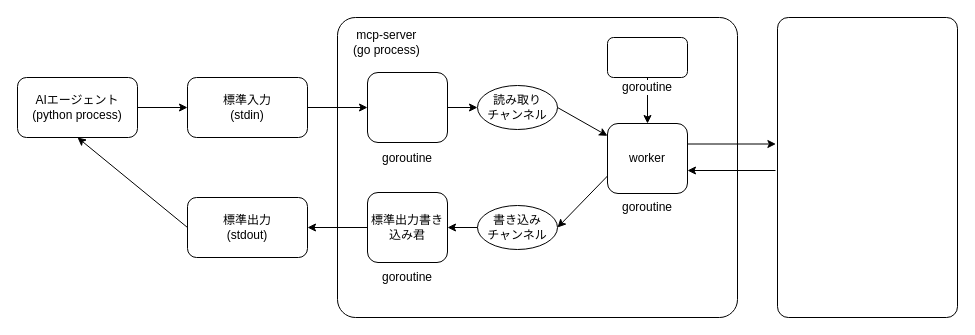
Some shapes in this 975 by 335 pixel diagram are drawn without their labels. The centre of each missing label's shape, as x and y in pixels:
"main" belongs at point 647,57.
"外部APIなど" belongs at point 867,167.
"標準入力読み込み君" belongs at point 407,107.
